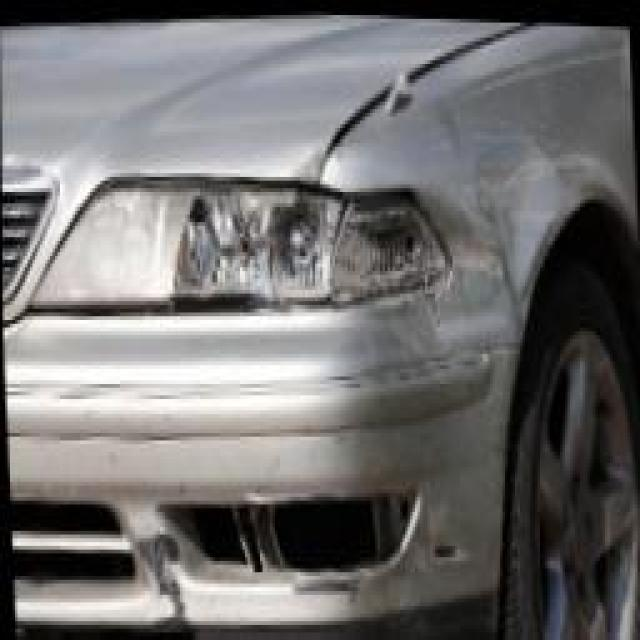Bumper: (95, 350, 518, 640)
Fender: (420, 68, 627, 323)
Light: (58, 166, 426, 318)
